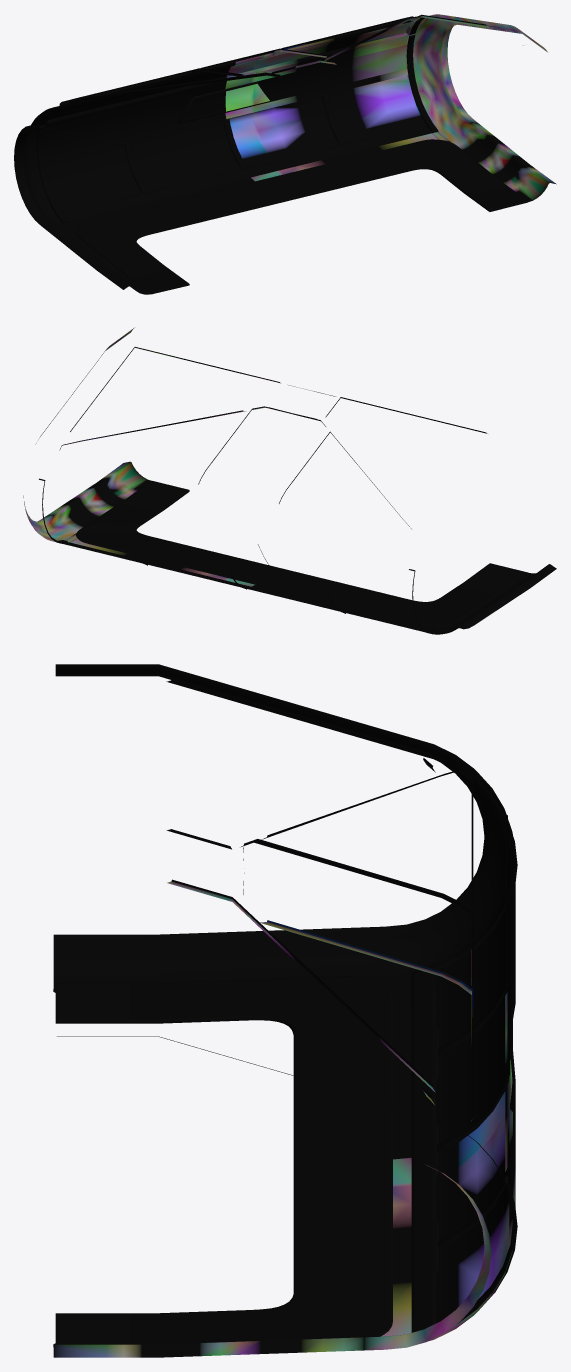
Rendered from CS_FieldGoalInner_02.gltf.
The picture shows the model from 3 angles, top to bottom: view 1: azimuth 30°, elevation 25°; view 2: azimuth 150°, elevation 25°; view 3: azimuth 270°, elevation 25°; orthographic projection. The views are drawn at different scales.
Parts seen in each view (by area): view 1: CS_FieldGoalInner_02; view 2: CS_FieldGoalInner_02; view 3: CS_FieldGoalInner_02.
Boxes of the visible parts, left/top/right/bottom form: CS_FieldGoalInner_02: left=14, top=14, right=556, bottom=294; CS_FieldGoalInner_02: left=23, top=327, right=556, bottom=634; CS_FieldGoalInner_02: left=53, top=664, right=517, bottom=1357.
Bounding box in the file's own units: 18.43 × 6.5 × 8.55.
